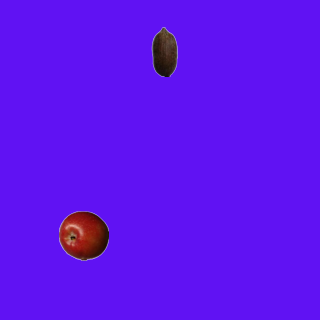Apple Braeburn: (58, 210, 108, 260)
Nut Pecan: (139, 26, 189, 76)
